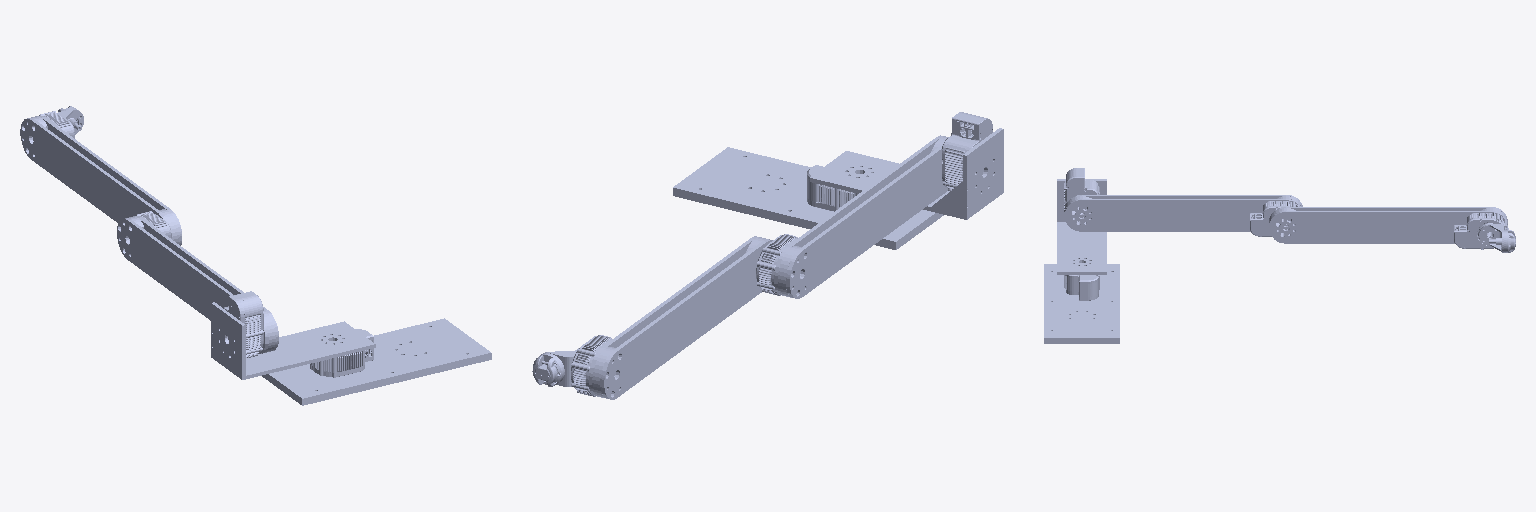
The robot description file, URDF, robot "ReceiveAssem":
<?xml version="1.0" encoding="utf-8"?>
<robot
  name="ReceiveAssem">
  <link name="world"/>

  <joint name="initial" type="fixed">
    <parent   link="world"/>
    <child    link="base_link"/>
    <origin   xyz="0 0 0" rpy="0 0 0"/>
  </joint>
  <link
    name="base_link">
    <inertial>
      <origin
        xyz="-0.0156821858181439 0.0137390852588391 -0.000423918809101779"
        rpy="0 0 0" />
      <mass
        value="0.88972826890057" />
      <inertia
        ixx="0.00133366727960815"
        ixy="2.48875903763923E-07"
        ixz="6.68647343982052E-06"
        iyy="0.00818153979986792"
        iyz="8.0177671708705E-08"
        izz="0.00687572672621421" />
    </inertial>
    <visual>
      <origin
        xyz="0 0 0"
        rpy="0 0 0" />
      <geometry>
        <mesh
          filename="package://ME134/meshes/Receive_base_link.STL" />
      </geometry>
      <material
        name="">
        <color
          rgba="0.792156862745098 0.819607843137255 0.933333333333333 1" />
      </material>
    </visual>
    <collision>
      <origin
        xyz="0 0 0"
        rpy="0 0 0" />
      <geometry>
        <mesh
          filename="package://ME134/meshes/base_link.STL" />
      </geometry>
    </collision>
  </link>
  <link
    name="LBracket">
    <inertial>
      <origin
        xyz="-0.138982267417571 -4.82765100021151E-05 0.041902051263492"
        rpy="0 0 0" />
      <mass
        value="0.449131531707174" />
      <inertia
        ixx="0.000414976886339391"
        ixy="-3.72629678558012E-07"
        ixz="7.83841354220244E-07"
        iyy="0.000949279264762443"
        iyz="6.58570583854253E-06"
        izz="0.00104425607053717" />
    </inertial>
    <visual>
      <origin
        xyz="0 0 0"
        rpy="0 0 0" />
      <geometry>
        <mesh
          filename="package://ME134/meshes/LBracket.STL" />
      </geometry>
      <material
        name="">
        <color
          rgba="0.792156862745098 0.819607843137255 0.933333333333333 1" />
      </material>
    </visual>
    <collision>
      <origin
        xyz="0 0 0"
        rpy="0 0 0" />
      <geometry>
        <mesh
          filename="package://ME134/meshes/LBracket.STL" />
      </geometry>
    </collision>
  </link>
  <joint
    name="Pan"
    type="continuous">
    <origin
      xyz="-0.075 0 0.0577499999999999"
      rpy="0 0 0" />
    <parent
      link="base_link" />
    <child
      link="LBracket" />
    <axis
      xyz="0 0 1" />
  </joint>
  <link
    name="LowerArm">
    <inertial>
      <origin
        xyz="0.244231330030986 -0.000432873058195922 -0.0373192262746434"
        rpy="0 0 0" />
      <mass
        value="0.704246719676202" />
      <inertia
        ixx="0.00027812092063964"
        ixy="-4.47049410922099E-06"
        ixz="5.14044045276244E-08"
        iyy="0.00818435738635304"
        iyz="7.37057611621578E-08"
        izz="0.0084516505241754" />
    </inertial>
    <visual>
      <origin
        xyz="0 0 0"
        rpy="0 0 0" />
      <geometry>
        <mesh
          filename="package://ME134/meshes/LowerArm.STL" />
      </geometry>
      <material
        name="">
        <color
          rgba="0.792156862745098 0.819607843137255 0.933333333333333 1"  />
      </material>
    </visual>
    <collision>
      <origin
        xyz="0 0 0"
        rpy="0 0 0" />
      <geometry>
        <mesh
          filename="package://ME134/meshes/LowerArm.STL" />
      </geometry>
    </collision>
  </link>
  <joint
    name="Tilt"
    type="continuous">
    <origin
      xyz="-0.0889 0 0.05135"
      rpy="1.5707963267949 0 1.5707963267949" />
    <parent
      link="LBracket" />
    <child
      link="LowerArm" />
    <axis
      xyz="0 0 1" />
  </joint>
  <link
    name="UpperArm">
    <inertial>
      <origin
        xyz="0.000432873095034228 0.244231331504682 0.0187307738889717"
        rpy="0 0 0" />
      <mass
        value="0.704246725149444" />
      <inertia
        ixx="0.00818435739411322"
        ixy="4.47049301479225E-06"
        ixz="-7.37057537228614E-08"
        iyy="0.000278120921303612"
        iyz="5.14044504245634E-08"
        izz="0.0084516505324836" />
    </inertial>
    <visual>
      <origin
        xyz="0 0 0"
        rpy="0 0 0" />
      <geometry>
        <mesh
          filename="package://ME134/meshes/UpperArm.STL" />
      </geometry>
      <material
        name="">
        <color
          rgba="0.792156862745098 0.819607843137255 0.933333333333333 1"  />
      </material>
    </visual>
    <collision>
      <origin
        xyz="0 0 0"
        rpy="0 0 0" />
      <geometry>
        <mesh
          filename="package://ME134/meshes/UpperArm.STL" />
      </geometry>
    </collision>
  </link>
  <joint
    name="Elbow"
    type="continuous">
    <origin
      xyz="0.4064 0 0"
      rpy="0 0 -1.5707963267949" />
    <parent
      link="LowerArm" />
    <child
      link="UpperArm" />
    <axis
      xyz="0 0 1" />
  </joint>
  <link
    name="GripperLBracket">
    <inertial>
      <origin
        xyz="7.18164439028612E-09 0.0264128565137099 -0.025234395440306"
        rpy="0 0 0" />
      <mass
        value="0.0444405224530501" />
      <inertia
        ixx="1.17897270827848E-05"
        ixy="1.57155559763676E-12"
        ixz="1.35987155714773E-12"
        iyy="1.2693879765633E-05"
        iyz="2.0016591535962E-06"
        izz="1.13045280921722E-05" />
    </inertial>
    <visual>
      <origin
        xyz="0 0 0"
        rpy="0 0 0" />
      <geometry>
        <mesh
          filename="package://ME134/meshes/GripperLBracket.STL" />
      </geometry>
      <material
        name="">
        <color
          rgba="0.792156862745098 0.819607843137255 0.933333333333333 1"  />
      </material>
    </visual>
    <collision>
      <origin
        xyz="0 0 0"
        rpy="0 0 0" />
      <geometry>
        <mesh
          filename="package://ME134/meshes/GripperLBracket.STL" />
      </geometry>
    </collision>
  </link>
  <joint
    name="Wrist"
    type="continuous">
    <origin
      xyz="0 0.4064 0.05605"
      rpy="-3.14159265358979 0 3.14159265358979" />
    <parent
      link="UpperArm" />
    <child
      link="GripperLBracket" />
    <axis
      xyz="0 0 -1" />
  </joint>
  
<!-- CHANGE THE VALUE HERE TO ADJUST TIP POSITION RELATIVE TO WRIST -->
  <link name="tip"/>
  <joint
    name="Gripper"
    type="fixed">
    <origin
      xyz="0 0.0 -0.0325"
      rpy="0 0 0" />
    <parent
      link="GripperLBracket" />
    <child
      link="tip" />
  </joint>
    
  
</robot>

--- What the picture shows (computed from the rendered views, not written in the file) ---
The picture shows the robot from 3 angles, left to right: view 1: azimuth 30°, elevation 25°; view 2: azimuth 150°, elevation 25°; view 3: azimuth 270°, elevation 25°; orthographic projection.
Model ReceiveAssem with 7 links and 6 joints (4 continuous, 2 fixed), rooted at world, posed every joint at zero.
Visible links, largest first — view 1: base_link, LBracket, UpperArm, LowerArm; view 2: UpperArm, LowerArm, base_link, LBracket, GripperLBracket; view 3: UpperArm, LowerArm, base_link, LBracket, GripperLBracket.
Boxes of the visible links, x1,y1,x2,y2 form: base_link: (262, 318, 491, 405); LBracket: (211, 291, 375, 379); UpperArm: (20, 111, 181, 245); LowerArm: (117, 211, 278, 353); UpperArm: (571, 236, 772, 399); LowerArm: (756, 135, 948, 298); base_link: (673, 147, 943, 249); LBracket: (810, 112, 1003, 219); GripperLBracket: (532, 350, 576, 386); UpperArm: (1269, 207, 1508, 249); LowerArm: (1065, 195, 1302, 236); base_link: (1044, 264, 1119, 343); LBracket: (1057, 168, 1106, 274); GripperLBracket: (1479, 224, 1515, 252).
Size in the robot's own frame: 0.4463 by 0.9378 by 0.1822 metres.
Meshes: 5 distinct files referenced, 5 mesh visuals loaded (5 binary STL).